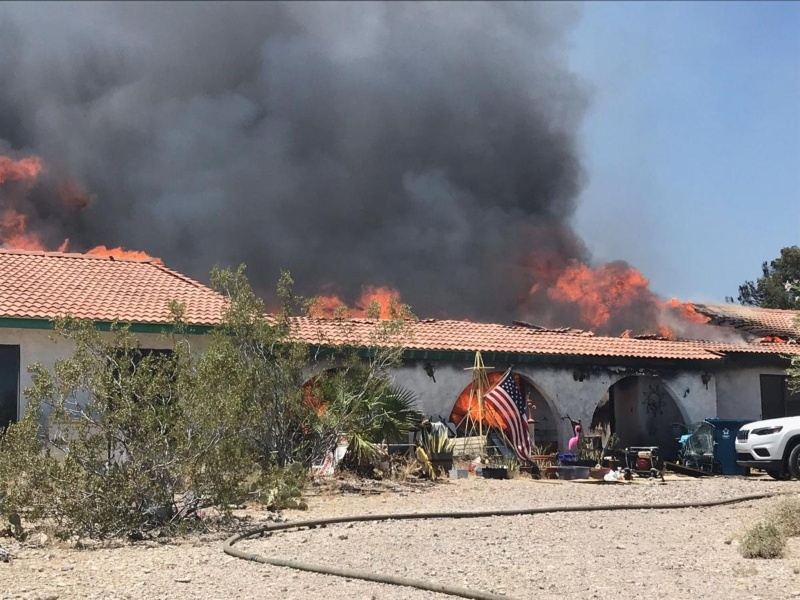smoke: (2, 1, 574, 275)
